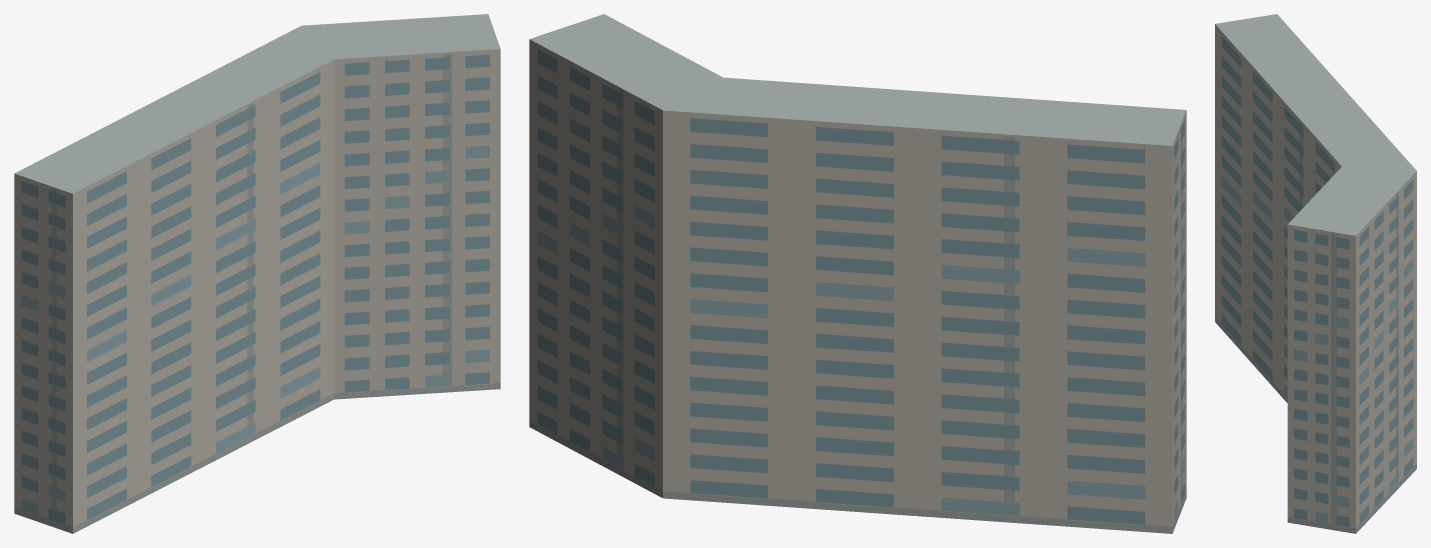
File: residential-0bedb205-7823-4eb1-add8-ba6bec2e6d13.glb
3 renders of one model, left to right at view 1: azimuth 30°, elevation 25°; view 2: azimuth 150°, elevation 25°; view 3: azimuth 270°, elevation 25°, orthographic. The views are drawn at different scales.
Visible parts, largest first — view 1: residential-0bedb205-7823-4eb1-add8-ba6bec2e6d13.tmp; view 2: residential-0bedb205-7823-4eb1-add8-ba6bec2e6d13.tmp; view 3: residential-0bedb205-7823-4eb1-add8-ba6bec2e6d13.tmp.
Boxes of the visible parts, x1,y1,x2,y2 form: residential-0bedb205-7823-4eb1-add8-ba6bec2e6d13.tmp: (14, 14, 500, 533); residential-0bedb205-7823-4eb1-add8-ba6bec2e6d13.tmp: (529, 14, 1186, 533); residential-0bedb205-7823-4eb1-add8-ba6bec2e6d13.tmp: (1215, 14, 1416, 533).
Bounding box in the file's own units: 73.06 × 45.75 × 28.1.
